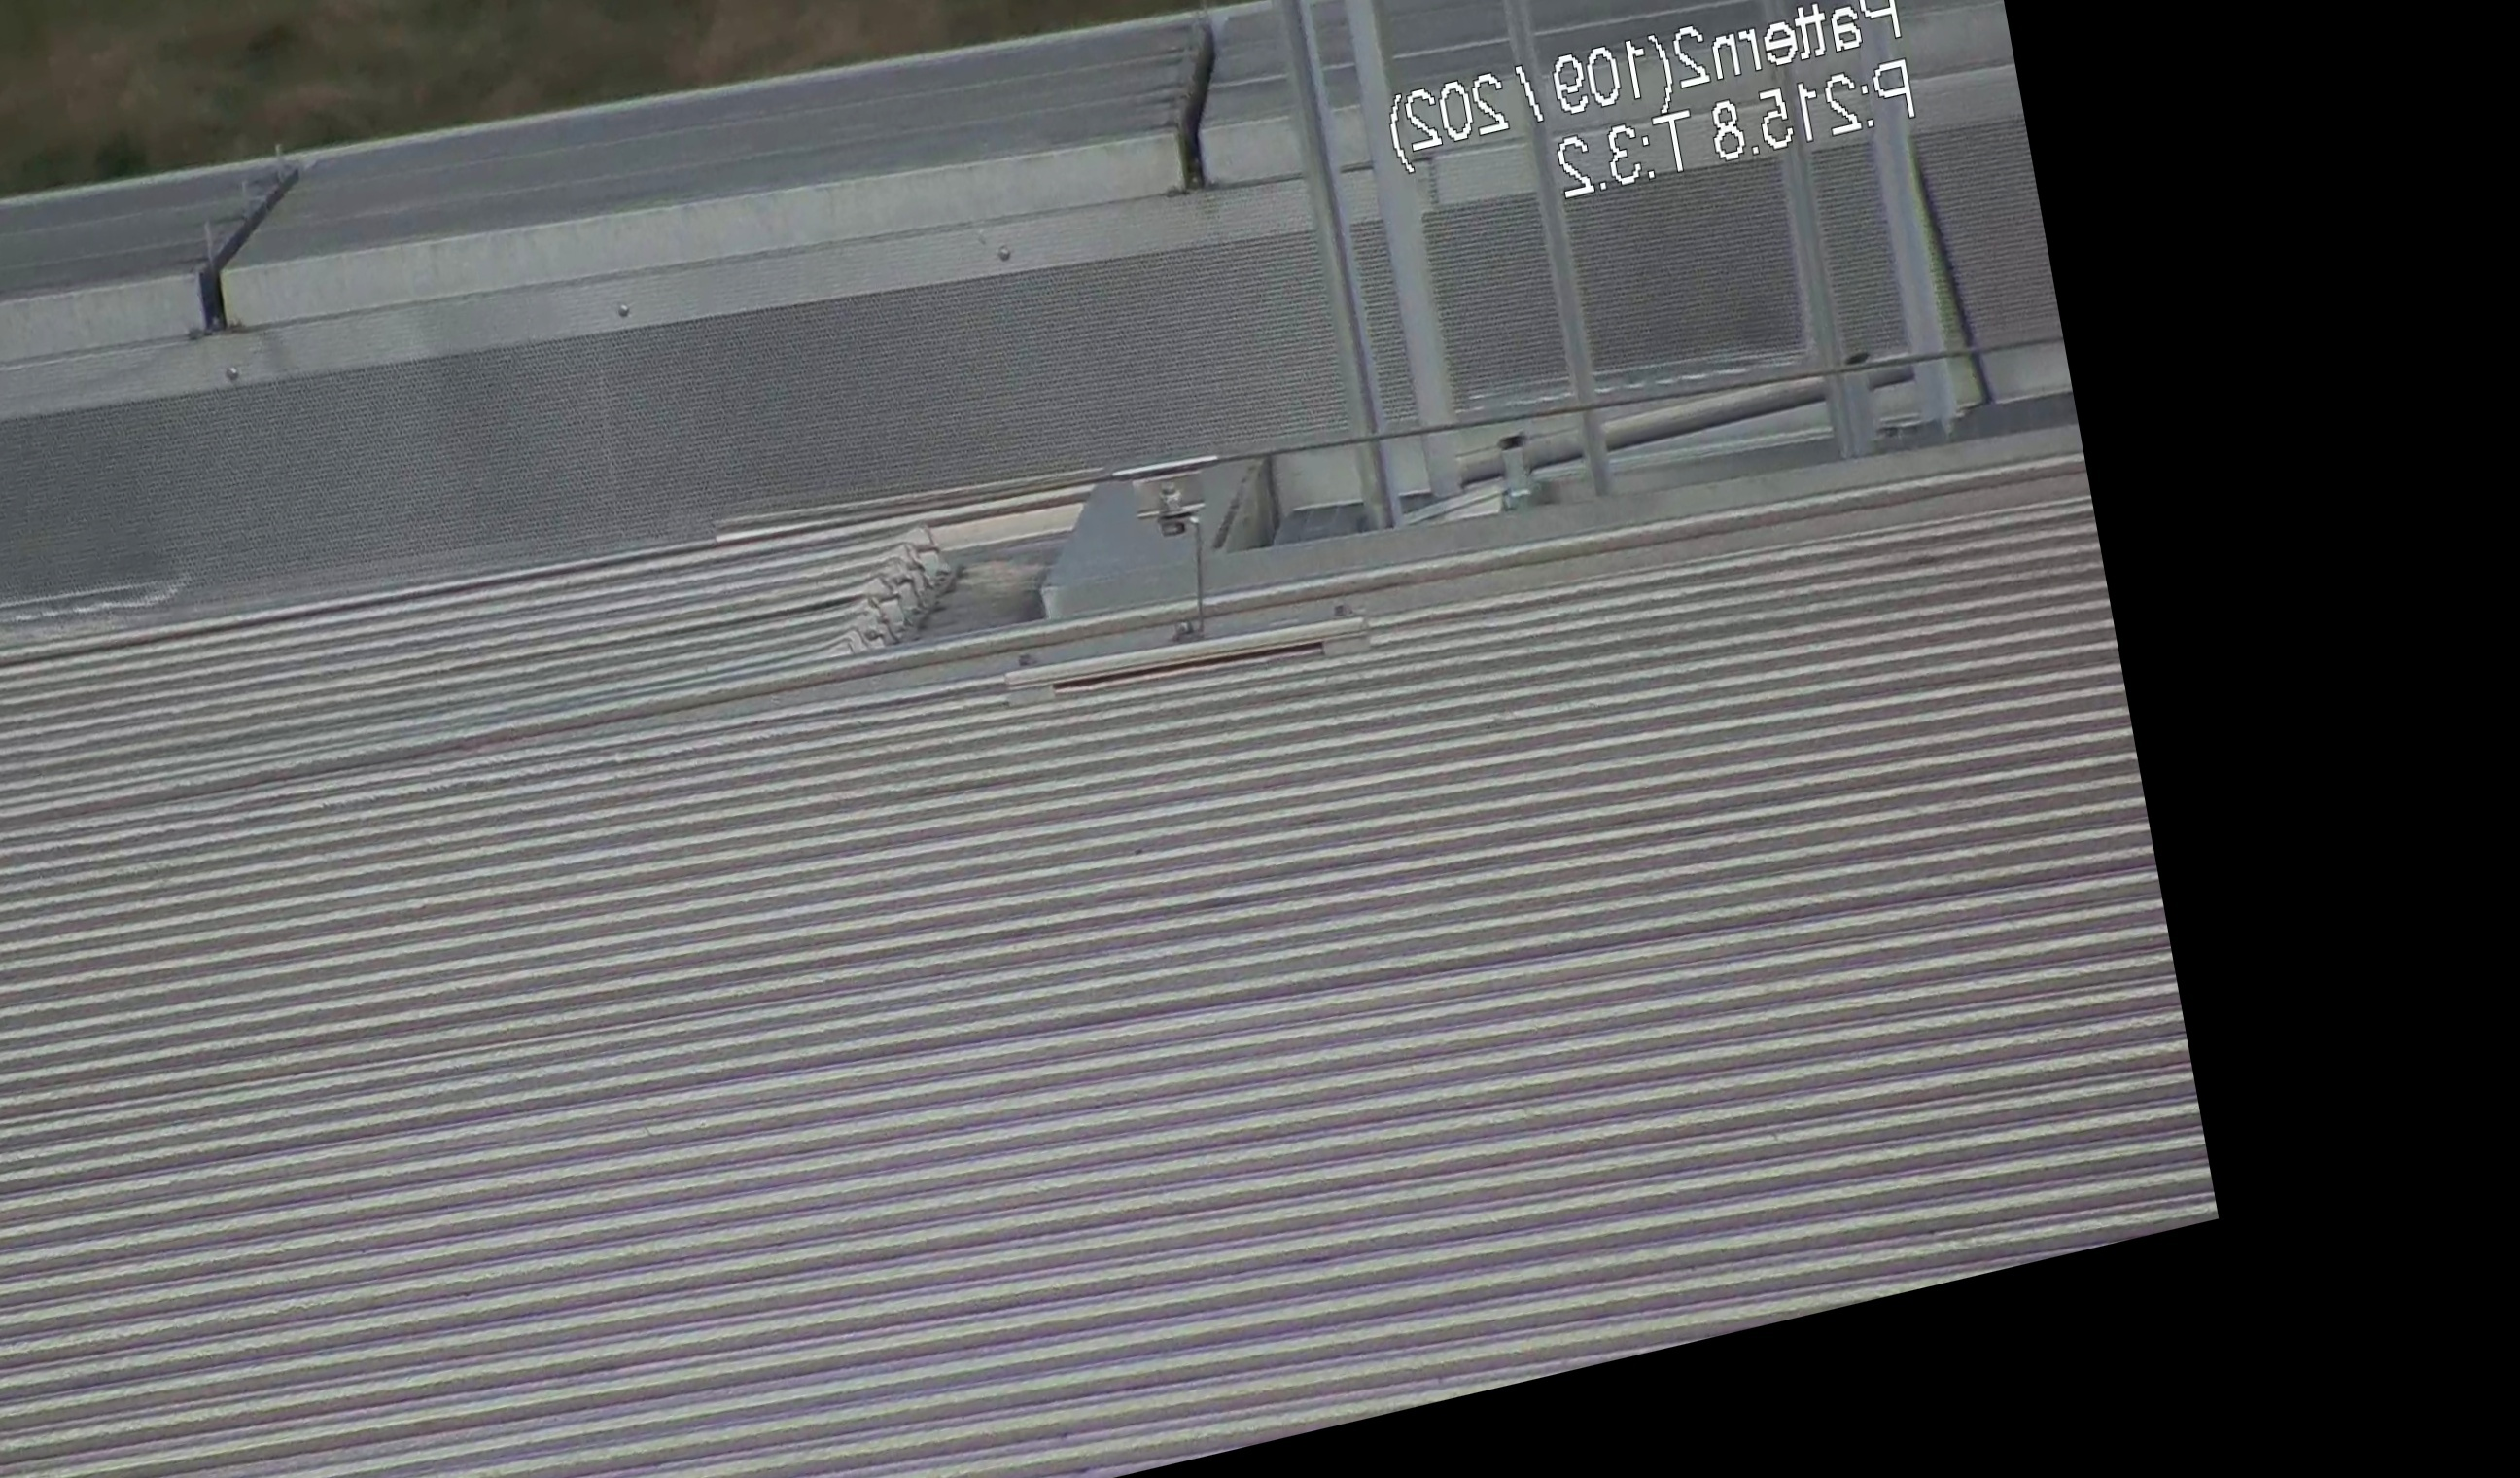Other: (1136, 0, 1275, 206)
